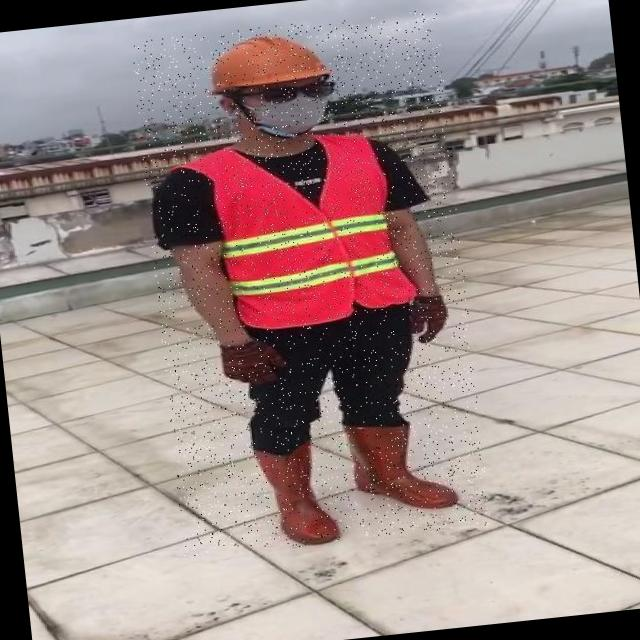hard_hat: (196, 26, 333, 97)
safety_vest: (206, 125, 414, 333)
vehicle: (130, 9, 490, 556)
work_boots: (342, 412, 461, 519), (252, 442, 344, 552)
